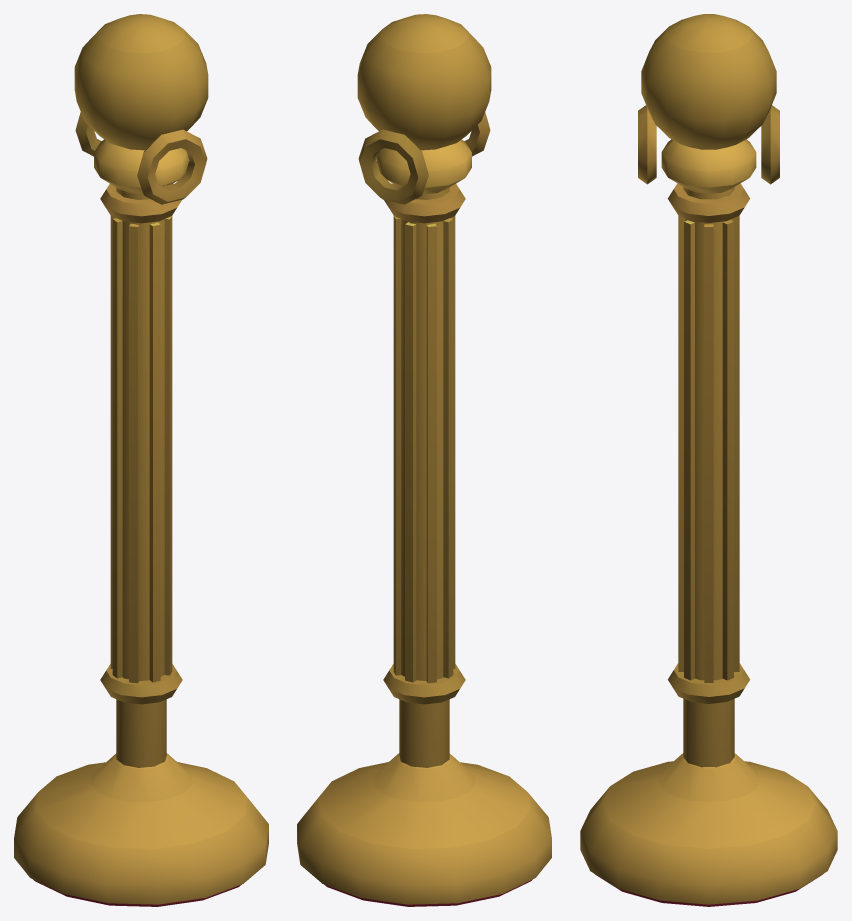
The model's file is SM_Prop_BrassStanchion.fbx.
The picture shows the model from 3 angles, left to right: view 1: azimuth 30°, elevation 25°; view 2: azimuth 150°, elevation 25°; view 3: azimuth 270°, elevation 25°; orthographic projection.
Parts seen in each view (by area): view 1: SM_Prop_BrassStanchion; view 2: SM_Prop_BrassStanchion; view 3: SM_Prop_BrassStanchion.
Boxes of the visible parts, bbox=[...] form: SM_Prop_BrassStanchion: bbox=[14, 14, 268, 906]; SM_Prop_BrassStanchion: bbox=[297, 14, 551, 906]; SM_Prop_BrassStanchion: bbox=[580, 14, 837, 906].
Bounding box in the file's own units: 30.04 × 108 × 30.04.
